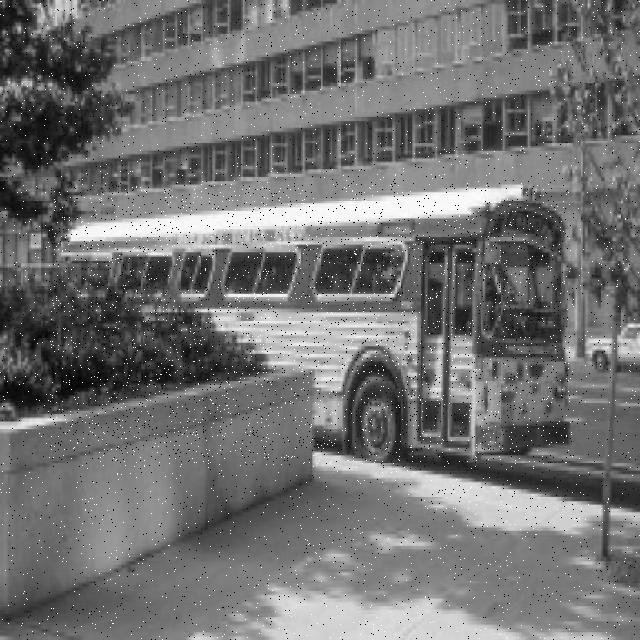Bus: (50, 183, 571, 464)
